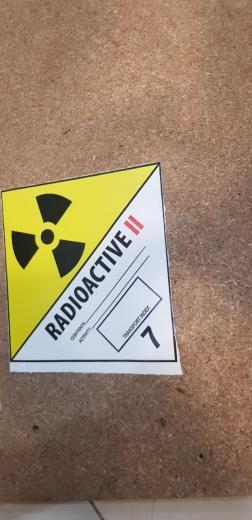radioactive: (6, 164, 166, 370)
